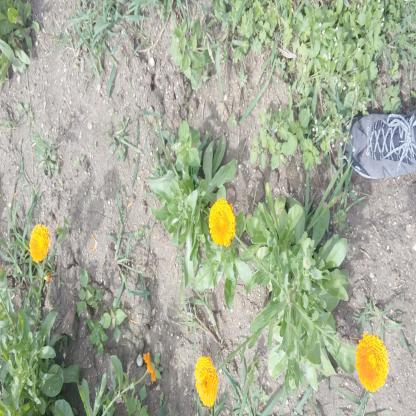marigold: (356, 335, 388, 392), (210, 200, 234, 247), (196, 357, 217, 406), (30, 226, 50, 260)
